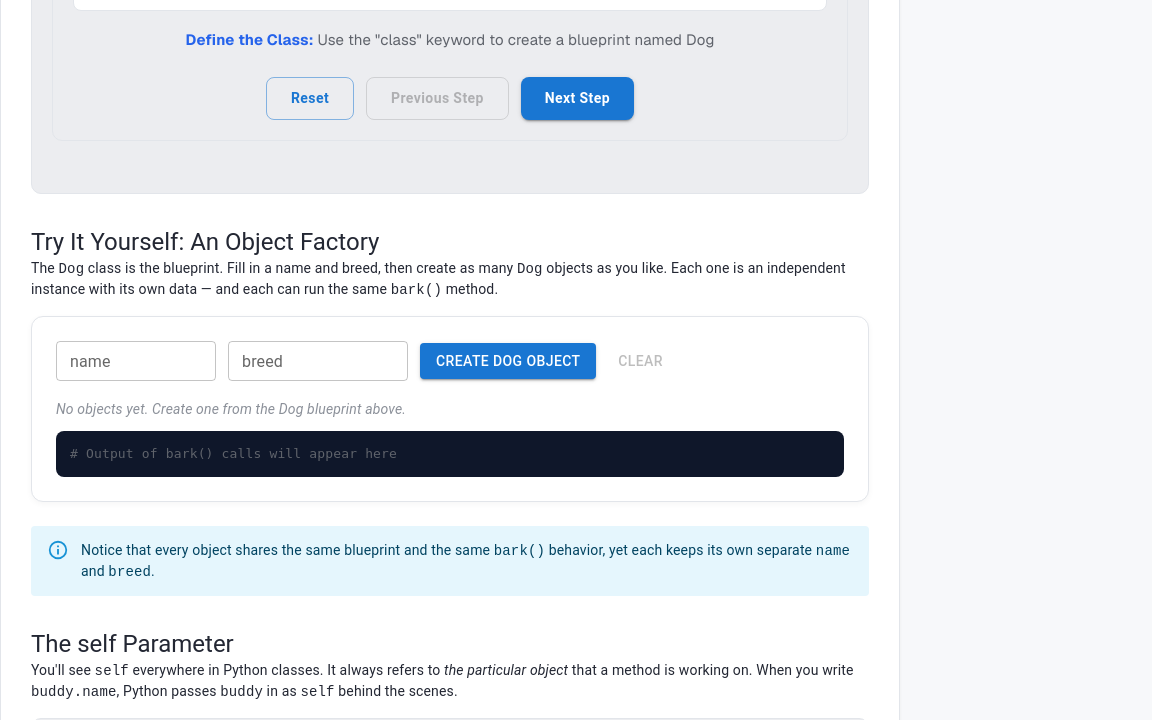
ClassesObjectsConcept › runs bark() and logs output
The width and height of the screenshot is (1152, 720).
(page scrolled)
Click the button "Create Dog object": (508, 361) x1=420 y1=343 x2=596 y2=379
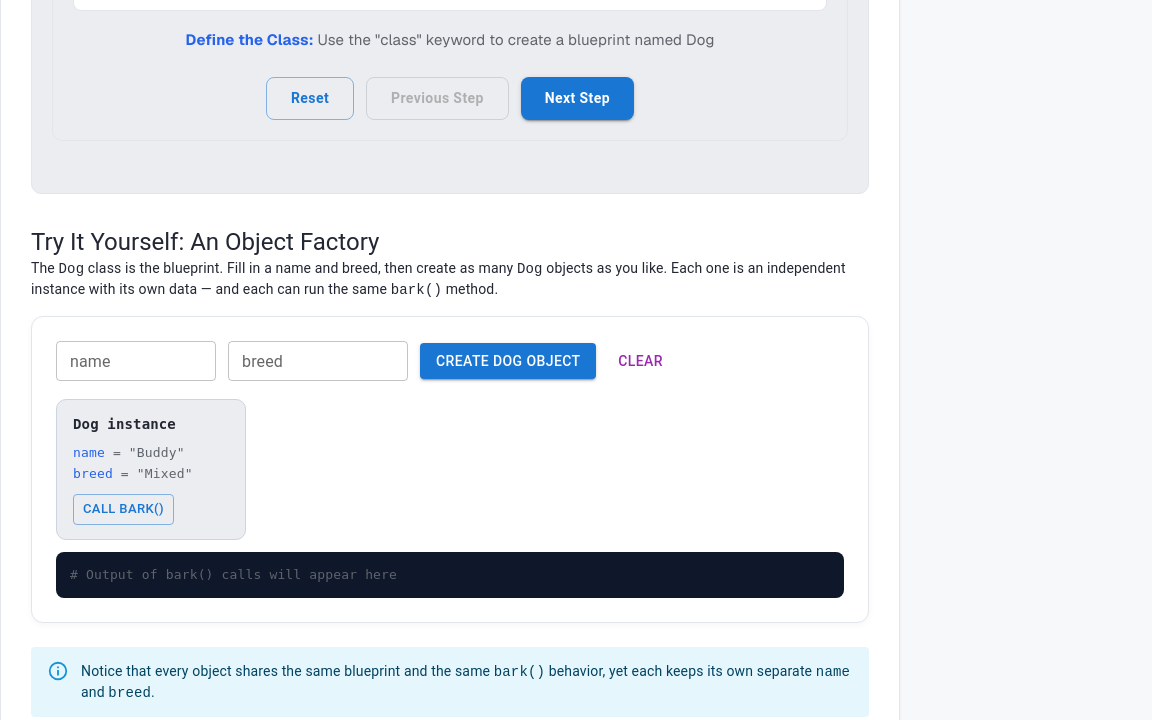
Click the button "call bark()": (123, 509) x1=73 y1=494 x2=174 y2=525
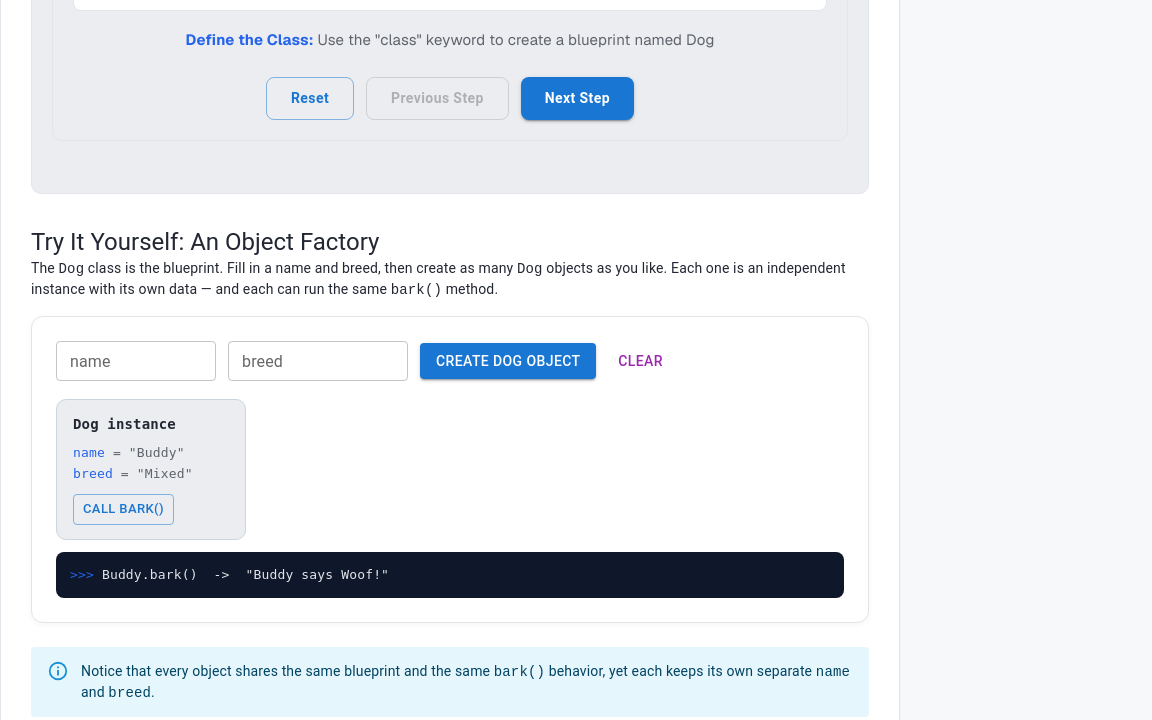
Result: the text ">>> Buddy.bark() -> \"Buddy says Woof!\"" is shown at x1=70 y1=567 x2=389 y2=582
